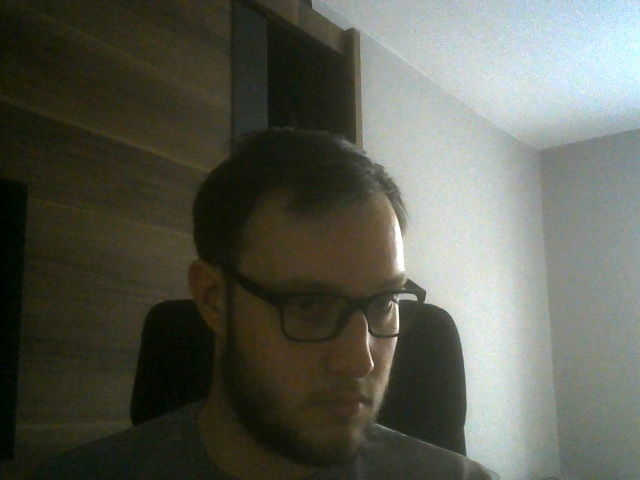neutral: (189, 128, 425, 463)
